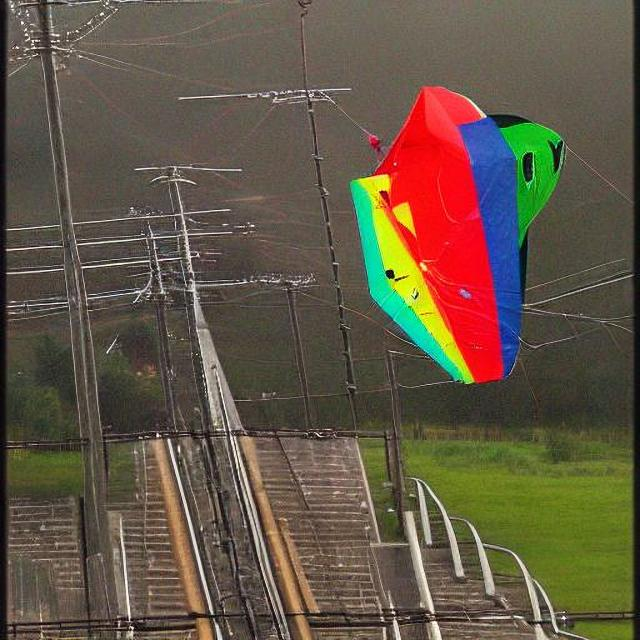floating object: (349, 87, 563, 380)
